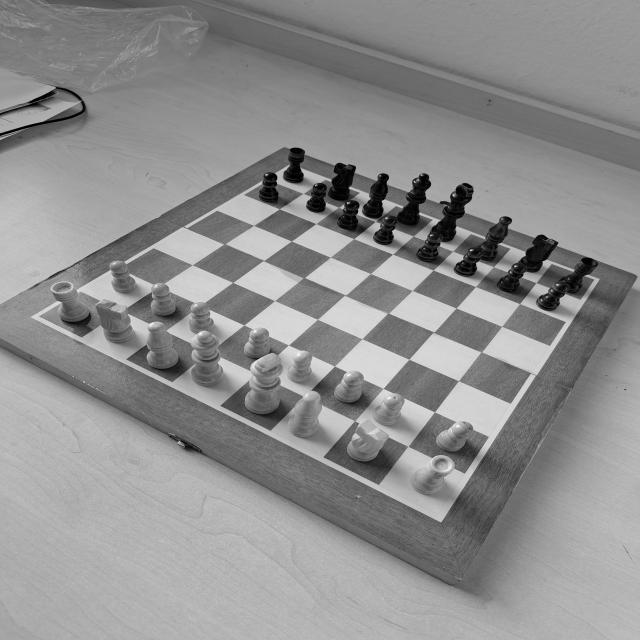chess-table-corners: (422, 504, 450, 526), (27, 308, 51, 325), (587, 275, 600, 285), (284, 162, 296, 169)
